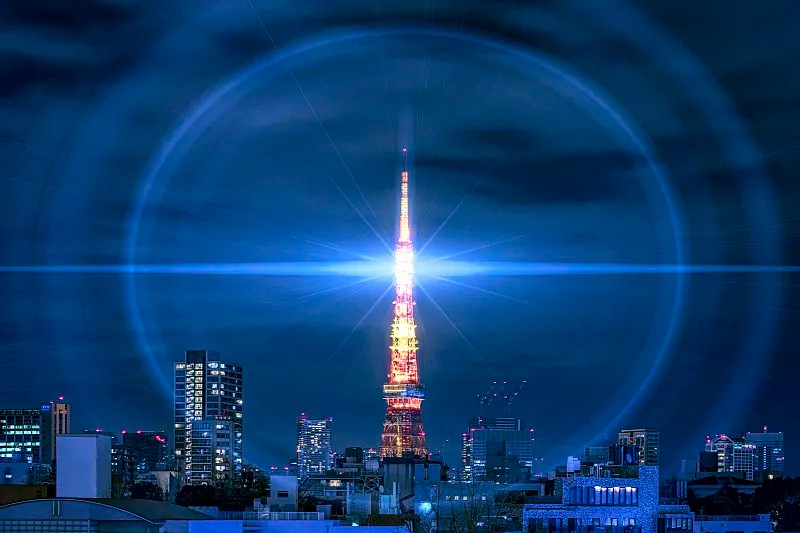Tokyo: (381, 145, 431, 464)
